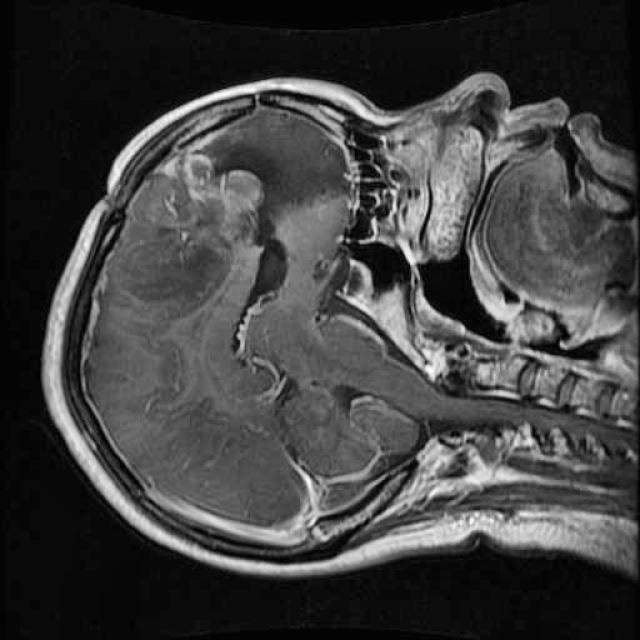Tumor: (102, 121, 310, 378)
